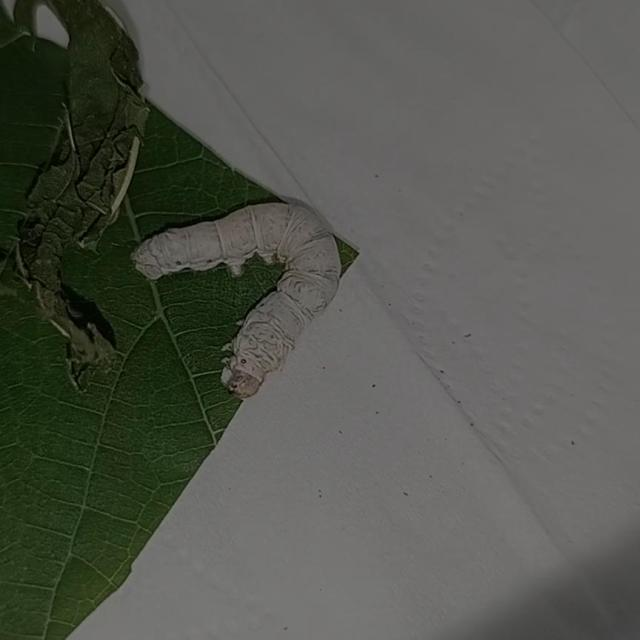Healthy: (128, 192, 356, 406)
